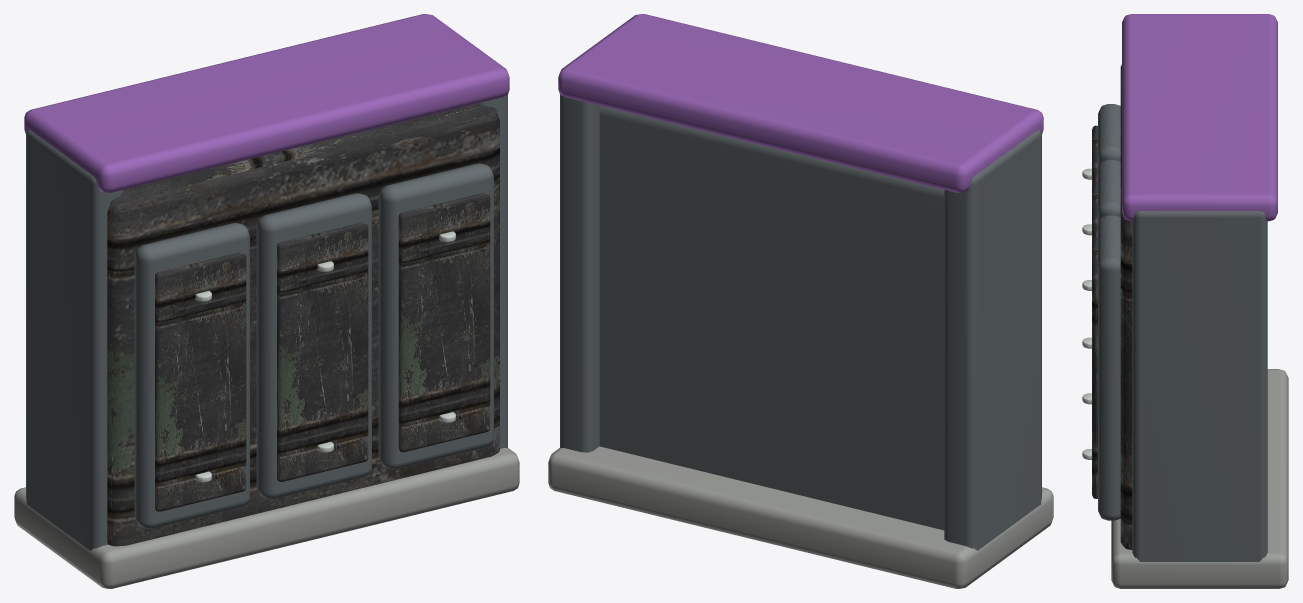
The model's file is wall_l03-2.glb.
The picture shows the model from 3 angles, left to right: view 1: azimuth 30°, elevation 25°; view 2: azimuth 150°, elevation 25°; view 3: azimuth 270°, elevation 25°; orthographic projection. The views are drawn at different scales.
Parts seen in each view (by area): view 1: DZN_wall_L03; view 2: DZN_wall_L03; view 3: DZN_wall_L03.
Boxes of the visible parts, x1,y1,x2,y2 form: DZN_wall_L03: (14,14,519,588); DZN_wall_L03: (548,14,1053,588); DZN_wall_L03: (1082,14,1288,588).
Bounding box in the file's own units: 1.94 × 1.86 × 0.8841.
Materials: 5 (1 with a texture image).
